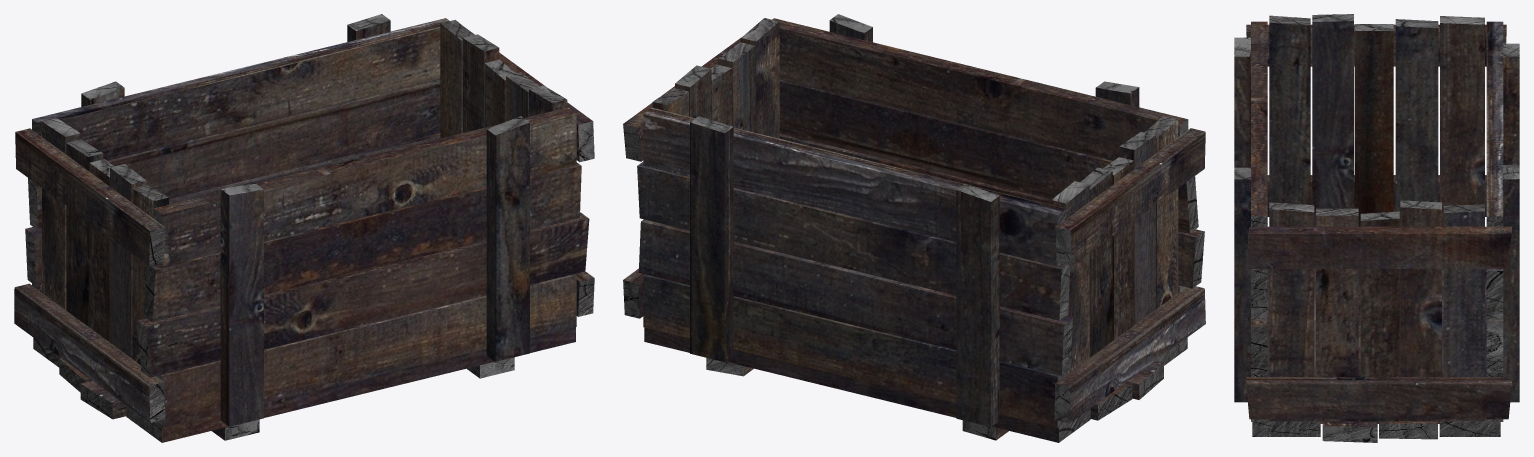
The model's file is fruit_crate_large.fbx.
3 views of the same model, side by side, from view 1: azimuth 30°, elevation 25°; view 2: azimuth 150°, elevation 25°; view 3: azimuth 270°, elevation 25° (orthographic). The views are drawn at different scales.
Parts seen in each view (by area): view 1: Crate1_5; view 2: Crate1_5; view 3: Crate1_5.
Part boxes in pixels (x1,y1,x2,y2): Crate1_5: [14, 14, 594, 442]; Crate1_5: [623, 14, 1205, 442]; Crate1_5: [1234, 14, 1519, 442].
Size of the model in its own units: 0.8526 by 0.4667 by 0.49.
